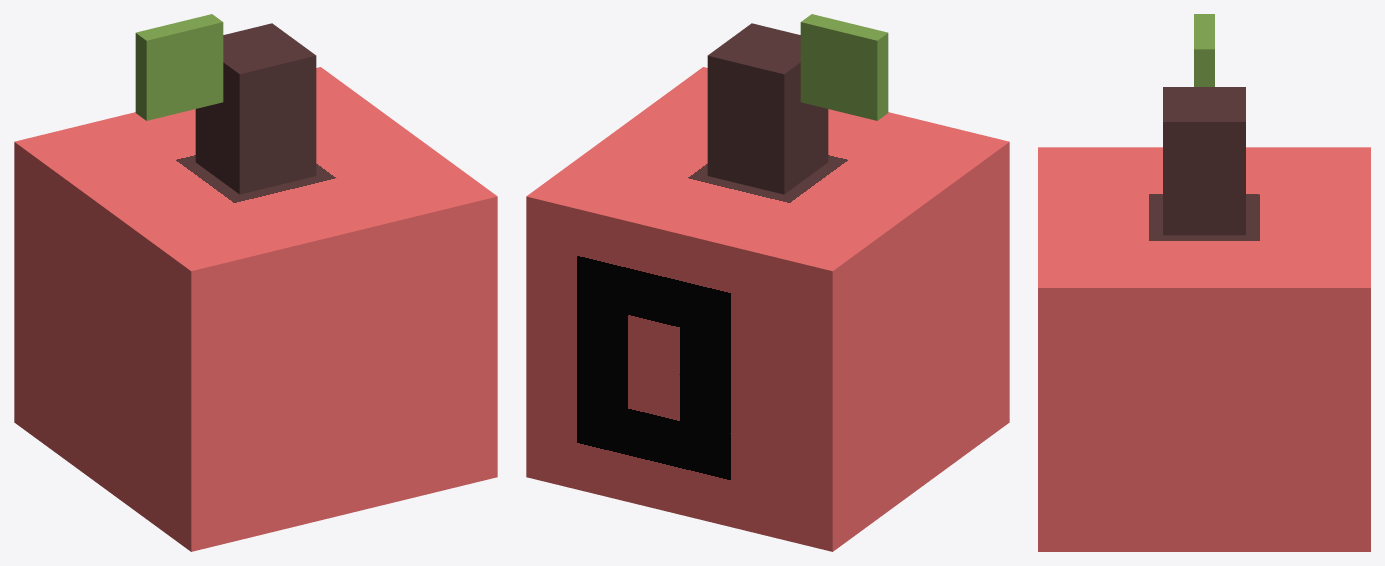
The model's file is apple.fbx.
3 renders of one model, left to right at view 1: azimuth 30°, elevation 25°; view 2: azimuth 150°, elevation 25°; view 3: azimuth 270°, elevation 25°, orthographic. The views are drawn at different scales.
Parts seen in each view (by area): view 1: cube, cube_1, cube_2; view 2: cube, cube_1, cube_2; view 3: cube, cube_1, cube_2.
Boxes of the visible parts, left/top/right/bottom form: cube: left=14, top=67, right=497, bottom=551; cube_1: left=195, top=23, right=316, bottom=194; cube_2: left=135, top=14, right=223, bottom=120; cube: left=526, top=67, right=1009, bottom=551; cube_1: left=707, top=23, right=828, bottom=194; cube_2: left=800, top=14, right=888, bottom=120; cube: left=1038, top=147, right=1370, bottom=551; cube_1: left=1163, top=87, right=1245, bottom=235; cube_2: left=1194, top=14, right=1214, bottom=86.
Bounding box in the file's own units: 5 × 6.88 × 5.
